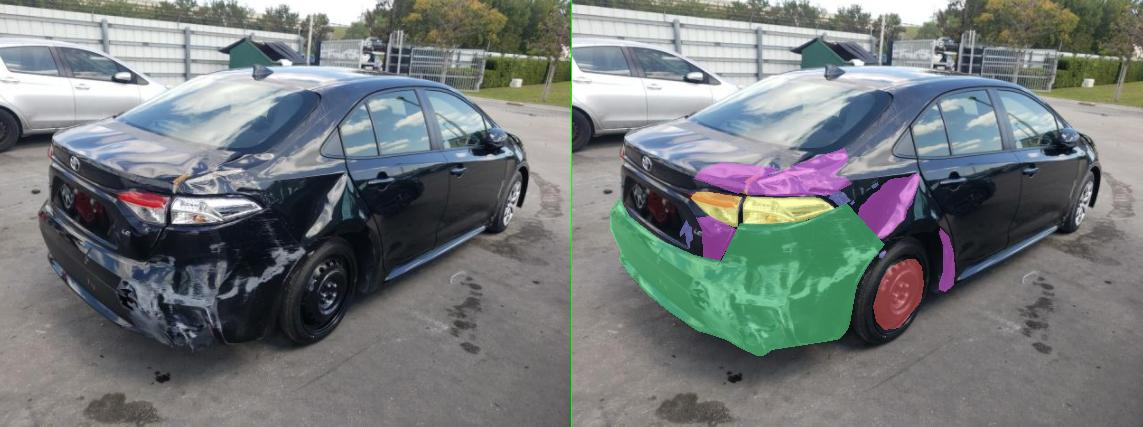Broken part: (76, 198, 625, 355)
Cracked: (342, 196, 524, 225), (238, 192, 338, 226)
Dent: (436, 216, 591, 323), (348, 148, 558, 195), (570, 173, 695, 240), (244, 162, 412, 193), (342, 258, 448, 302), (312, 293, 422, 334), (248, 216, 330, 260), (735, 228, 765, 291), (228, 280, 280, 310), (260, 265, 328, 286)
Missing part: (603, 259, 703, 329)
Paint chip: (332, 170, 398, 194)
Scratch: (208, 252, 470, 340), (490, 247, 613, 293), (254, 301, 346, 347), (426, 165, 522, 195), (442, 294, 506, 336), (424, 208, 538, 229), (370, 172, 452, 194), (340, 320, 394, 353), (432, 275, 498, 301), (562, 258, 601, 286), (516, 218, 554, 236), (514, 190, 556, 206), (216, 220, 240, 247), (386, 308, 412, 328), (418, 242, 456, 254), (741, 235, 755, 264), (170, 276, 192, 290), (356, 229, 400, 236), (540, 238, 570, 247), (466, 249, 488, 261), (416, 324, 430, 340), (330, 224, 360, 231), (376, 329, 396, 337), (484, 293, 498, 302), (306, 263, 336, 267), (615, 250, 627, 257), (599, 182, 613, 188), (338, 304, 346, 313), (168, 257, 178, 264), (570, 245, 591, 248), (346, 314, 360, 318), (332, 267, 340, 271), (556, 200, 564, 204), (334, 263, 340, 266)
